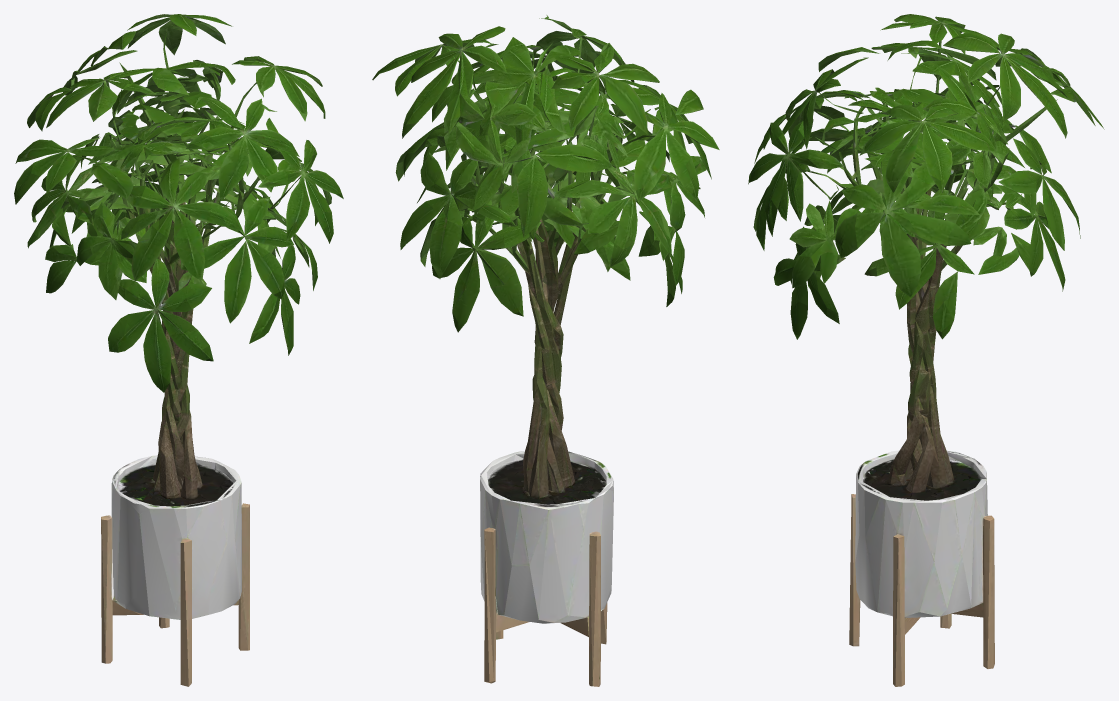
File: potted_tree.glb
The picture shows the model from 3 angles, left to right: view 1: azimuth 30°, elevation 25°; view 2: azimuth 150°, elevation 25°; view 3: azimuth 270°, elevation 25°; orthographic projection. The views are drawn at different scales.
Visible parts, largest first — view 1: 0; view 2: 0; view 3: 0.
Boxes of the visible parts, x1,y1,x2,y2 form: 0: (14,14,343,686); 0: (372,15,719,686); 0: (748,14,1104,686).
Bounding box in the file's own units: 0.8428 × 1.6 × 0.8144.
Materials: 1 (1 with a texture image).
